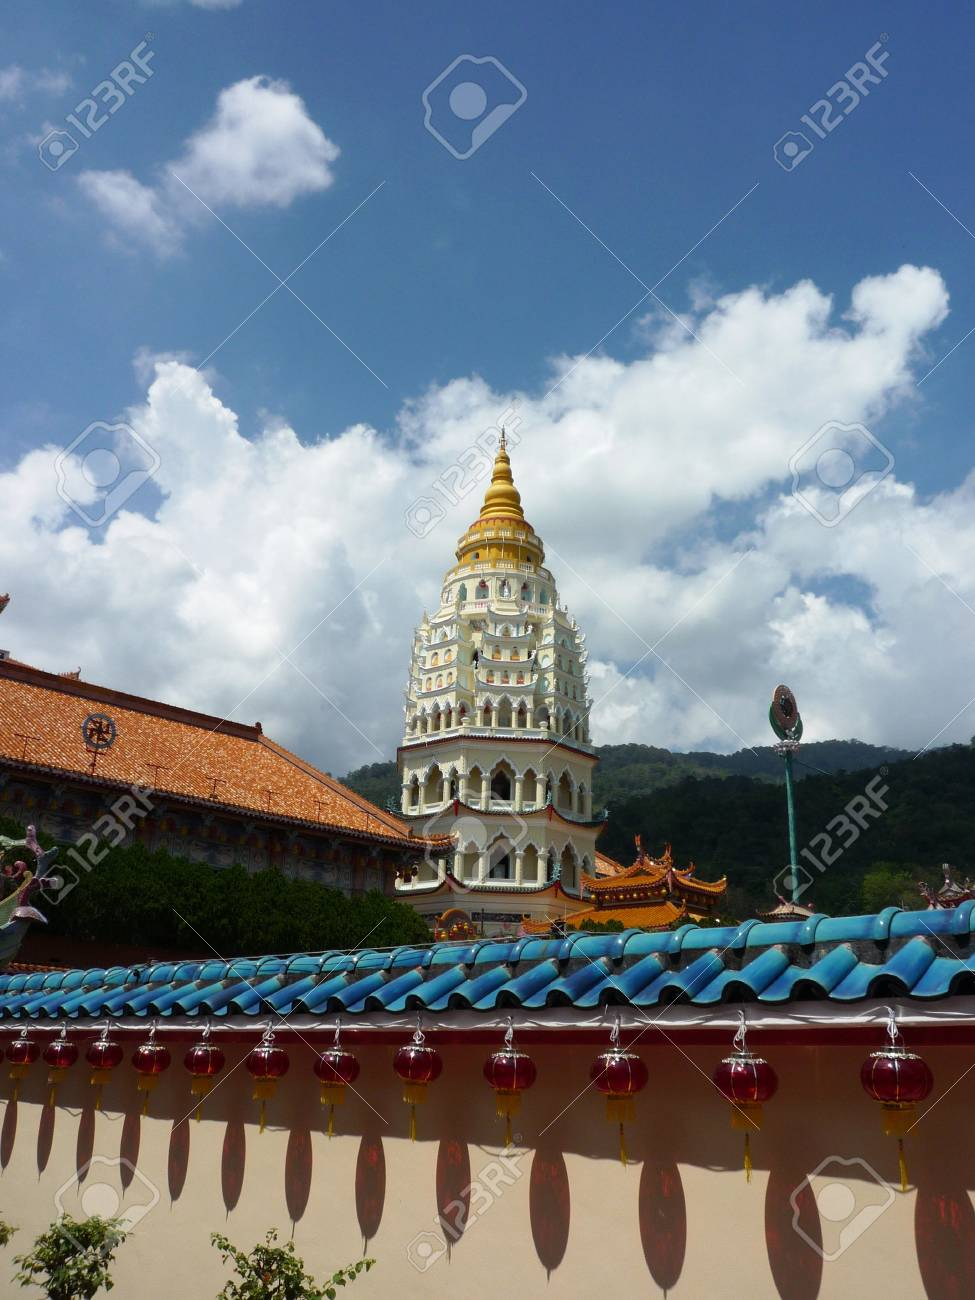Buddhist Temple: (362, 407, 592, 902)
